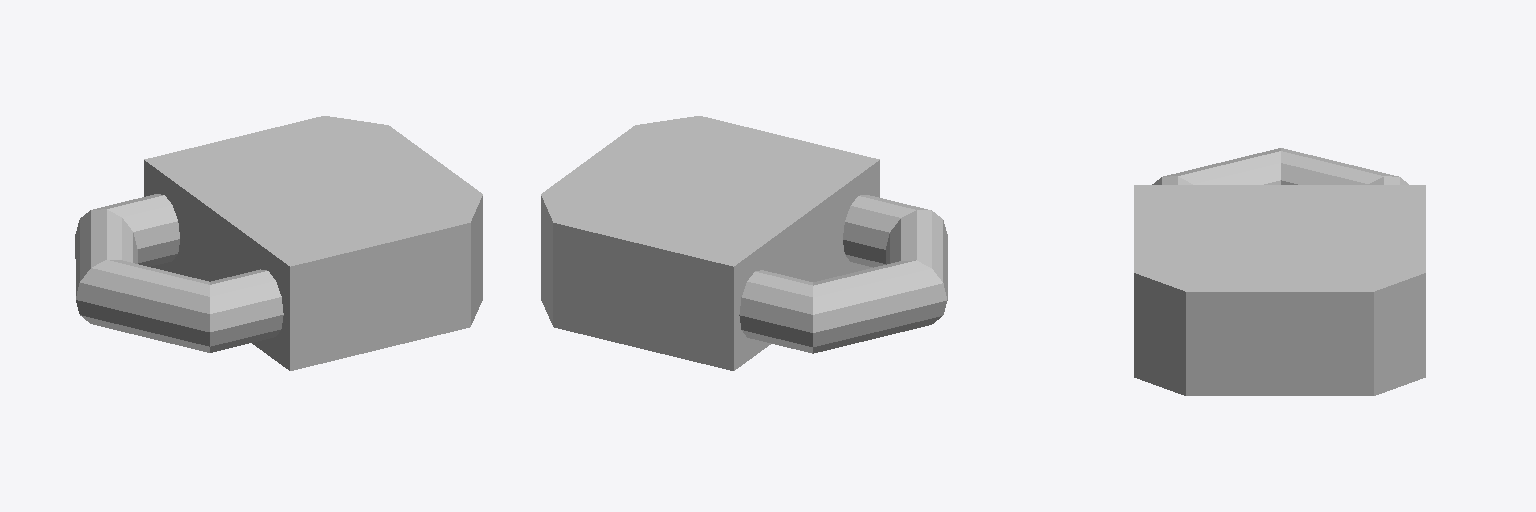
The model's file is lock1.obj.
The picture shows the model from 3 angles: view 1: azimuth 30°, elevation 25°; view 2: azimuth 150°, elevation 25°; view 3: azimuth 270°, elevation 25°; orthographic projection.
Parts seen in each view (by area): view 1: lock_body; view 2: lock_body; view 3: lock_body.
Boxes of the visible parts, x1,y1,x2,y2 form: lock_body: [75, 116, 482, 370]; lock_body: [541, 116, 947, 370]; lock_body: [1134, 148, 1425, 395].
Bounding box in the file's own units: 0.071 × 0.0197 × 0.05.